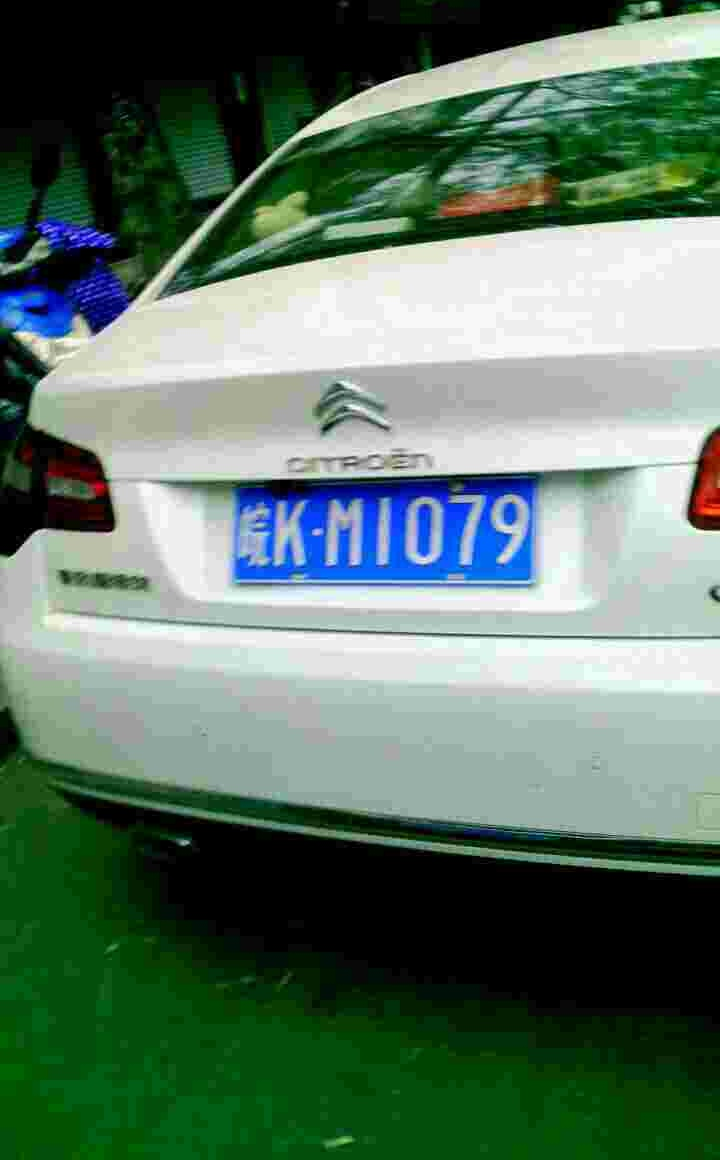license_plate: (226, 485, 546, 581)
